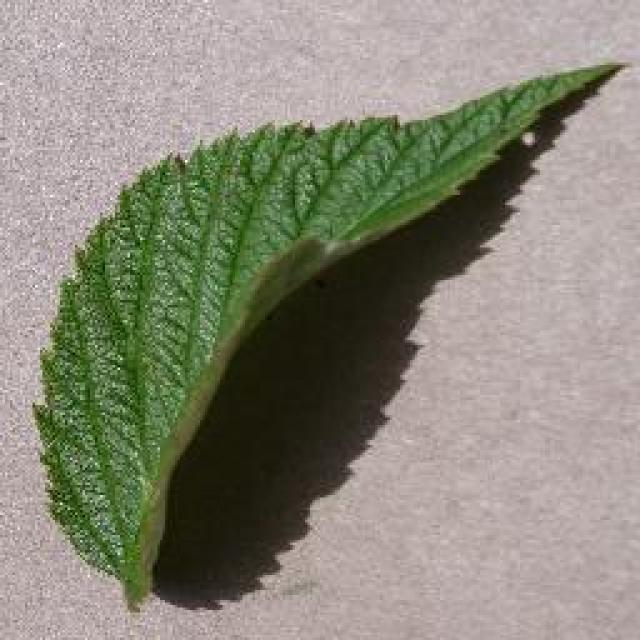Ras_healthy: (53, 94, 428, 537)
